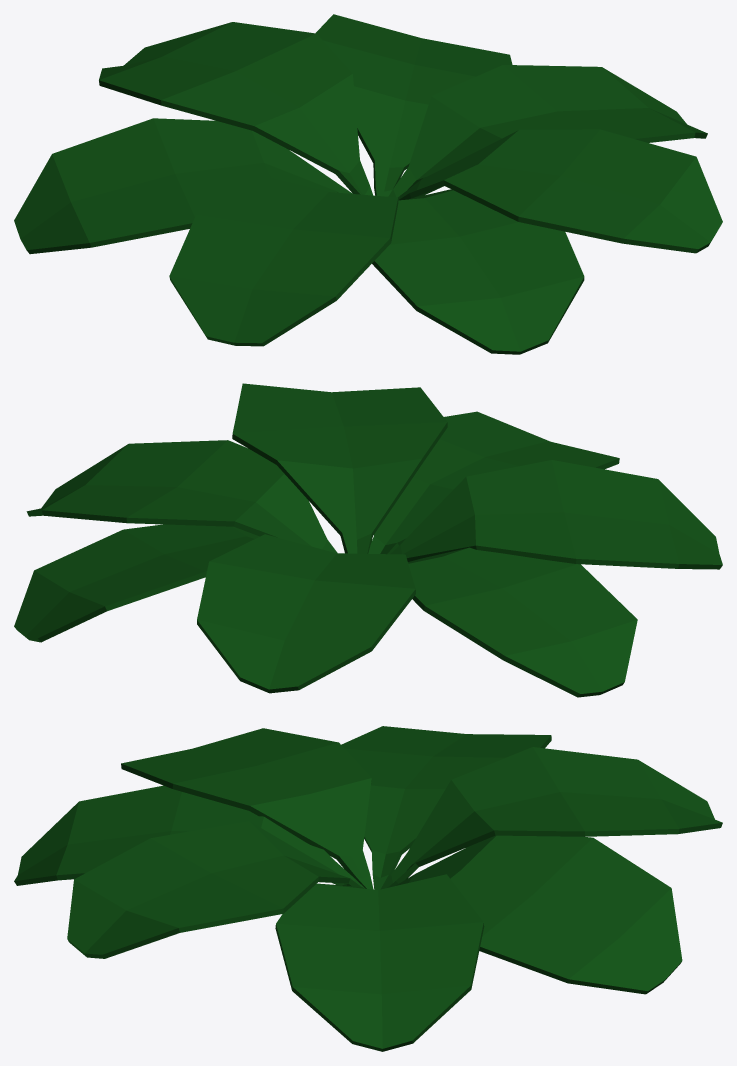
File: LeafBush.fbx
The picture shows the model from 3 angles, top to bottom: view 1: azimuth 30°, elevation 25°; view 2: azimuth 150°, elevation 25°; view 3: azimuth 270°, elevation 25°; orthographic projection.
Parts seen in each view (by area): view 1: Leaf; view 2: Leaf; view 3: Leaf.
Boxes of the visible parts, x1,y1,x2,y2 form: Leaf: [14, 14, 722, 354]; Leaf: [14, 383, 722, 697]; Leaf: [14, 726, 722, 1051].
Size of the model in its own units: 1.25 by 0.1809 by 1.25.
